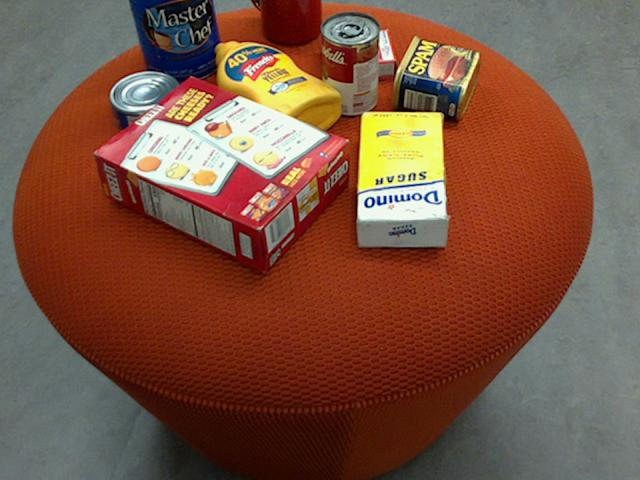cracker_box: (92, 74, 348, 270)
gelatin_box: (321, 29, 397, 82)
large_marker: (283, 0, 305, 38)
master_chef_can: (128, 0, 223, 83)
mug: (252, 0, 321, 44)
mustard_bottle: (215, 42, 340, 145)
potted_meat_can: (390, 36, 478, 120)
sugar_box: (357, 111, 448, 247)
tomato_soup_can: (320, 11, 379, 115)
tuna_fish_can: (107, 72, 184, 134)
